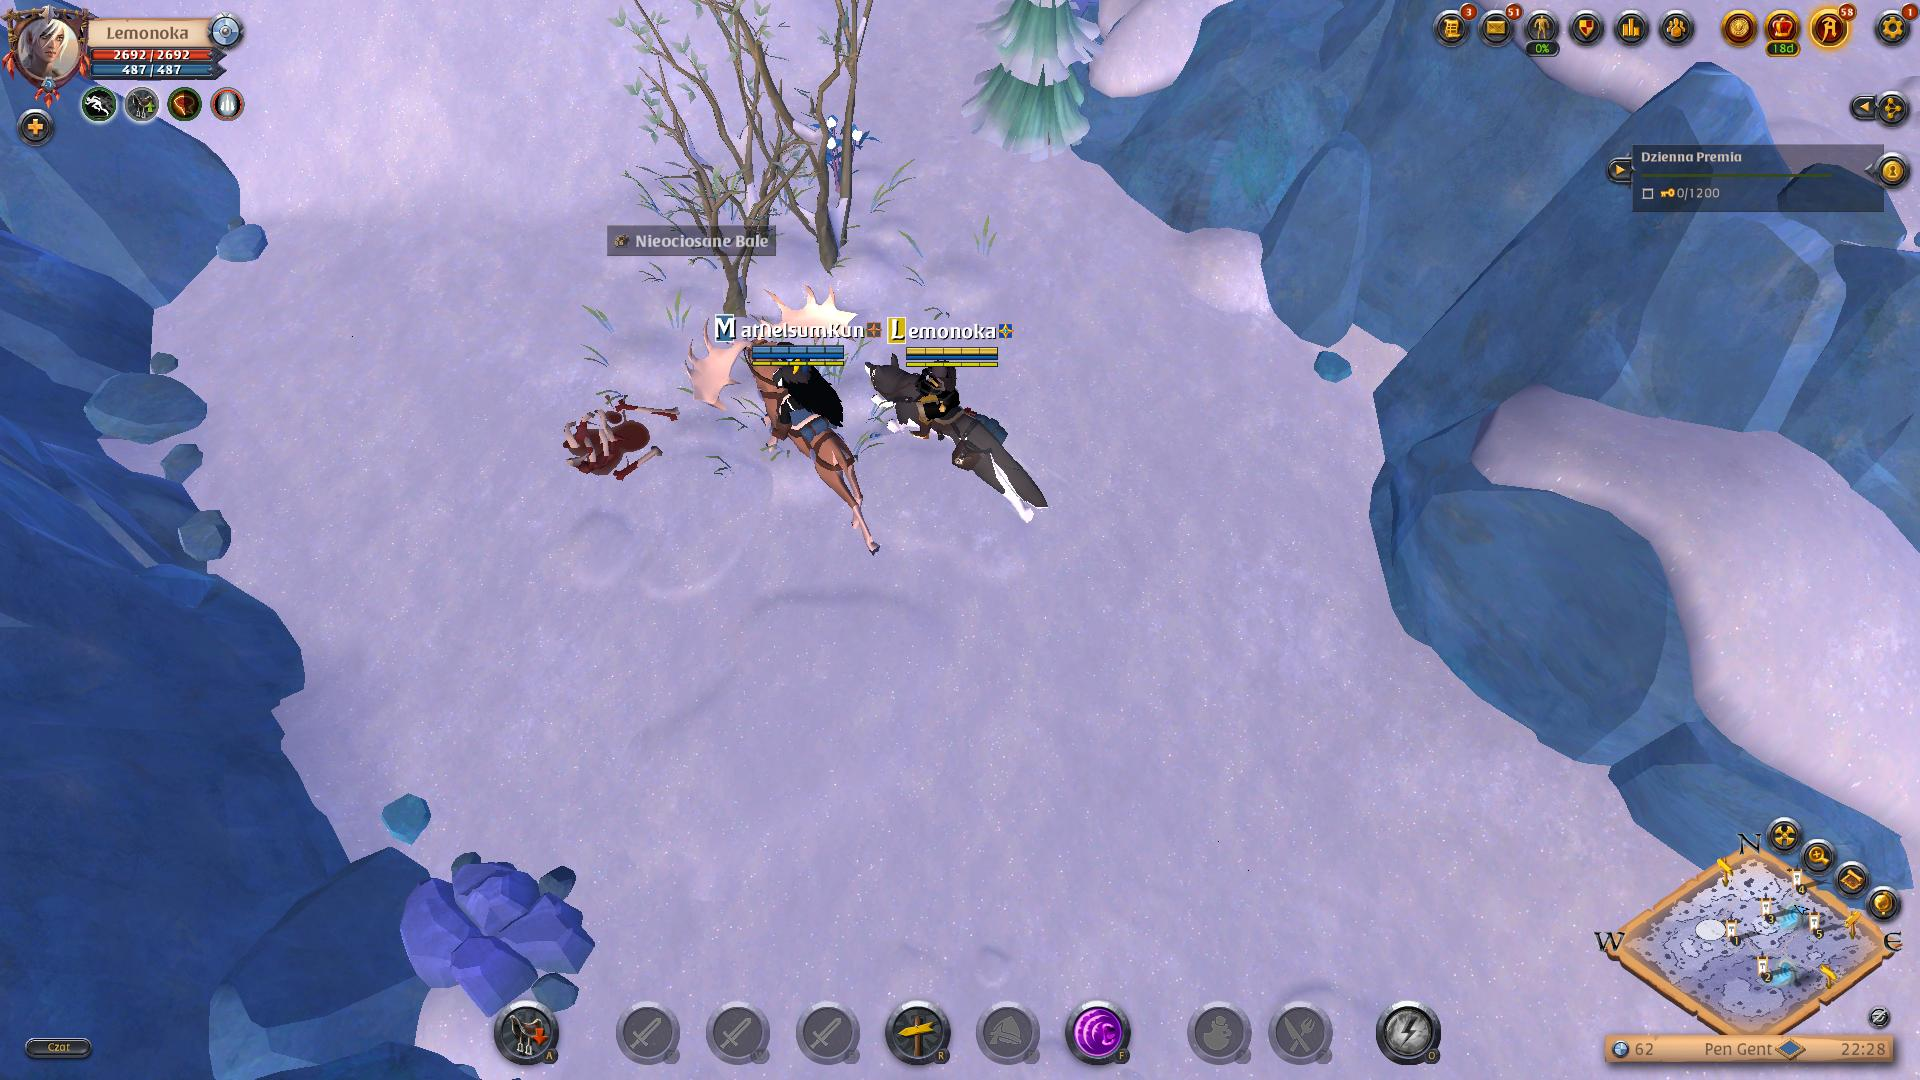rock tier 4: (397, 848, 601, 997)
